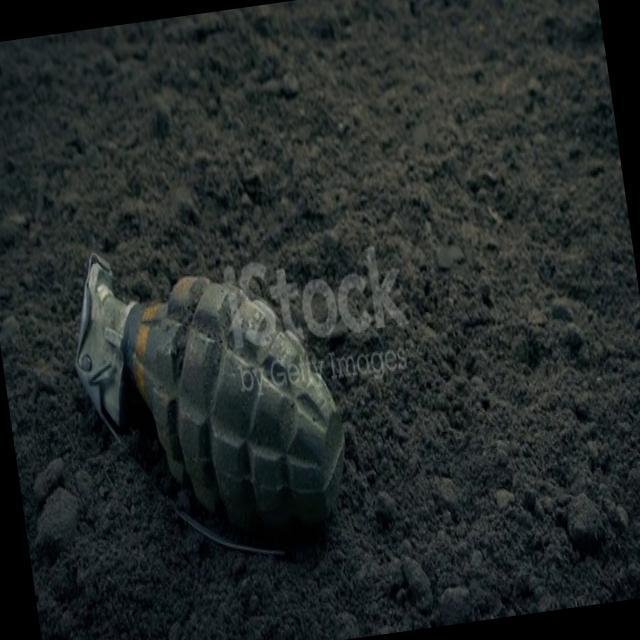grenade: (63, 224, 362, 583)
